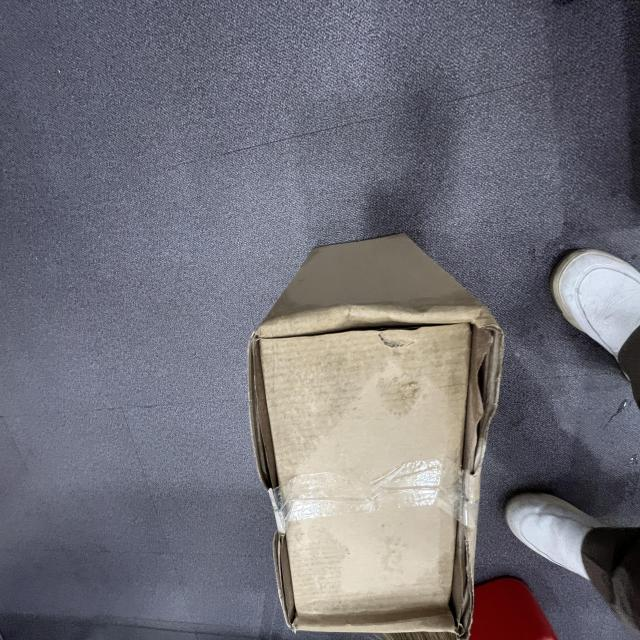wet: (284, 167, 384, 333), (168, 221, 258, 319)
